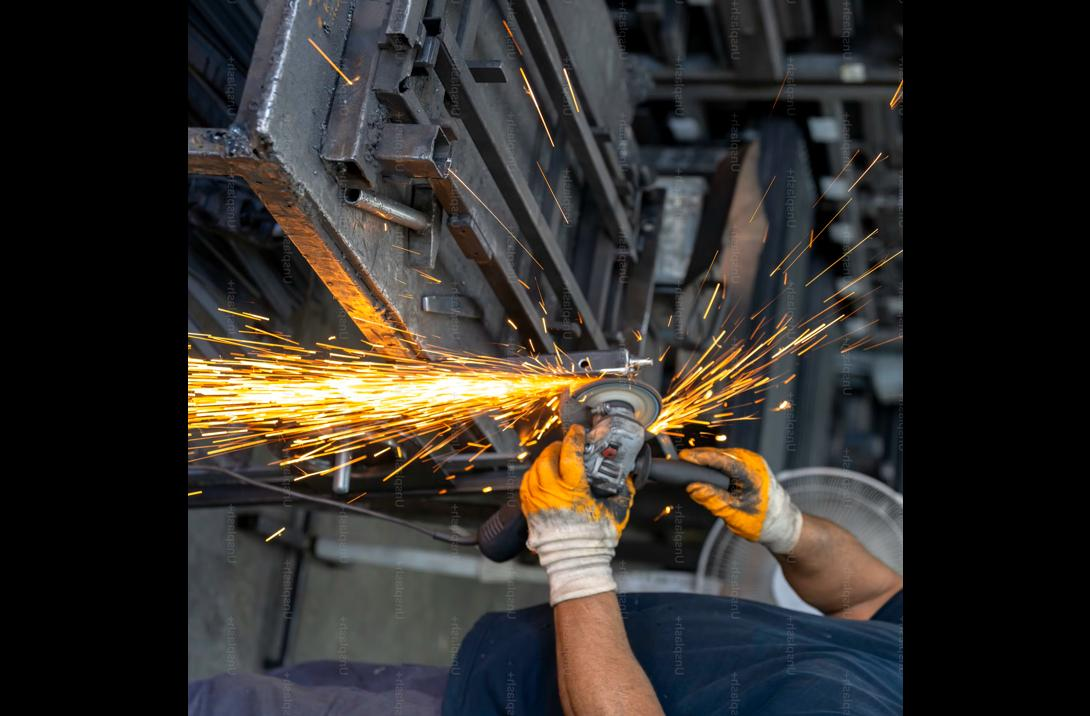controlled_fire: (195, 270, 766, 497)
